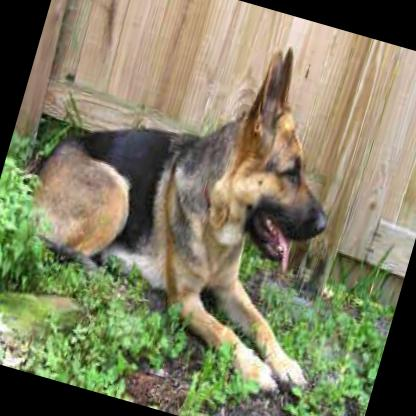German_shepherd: (0, 0, 395, 407)
